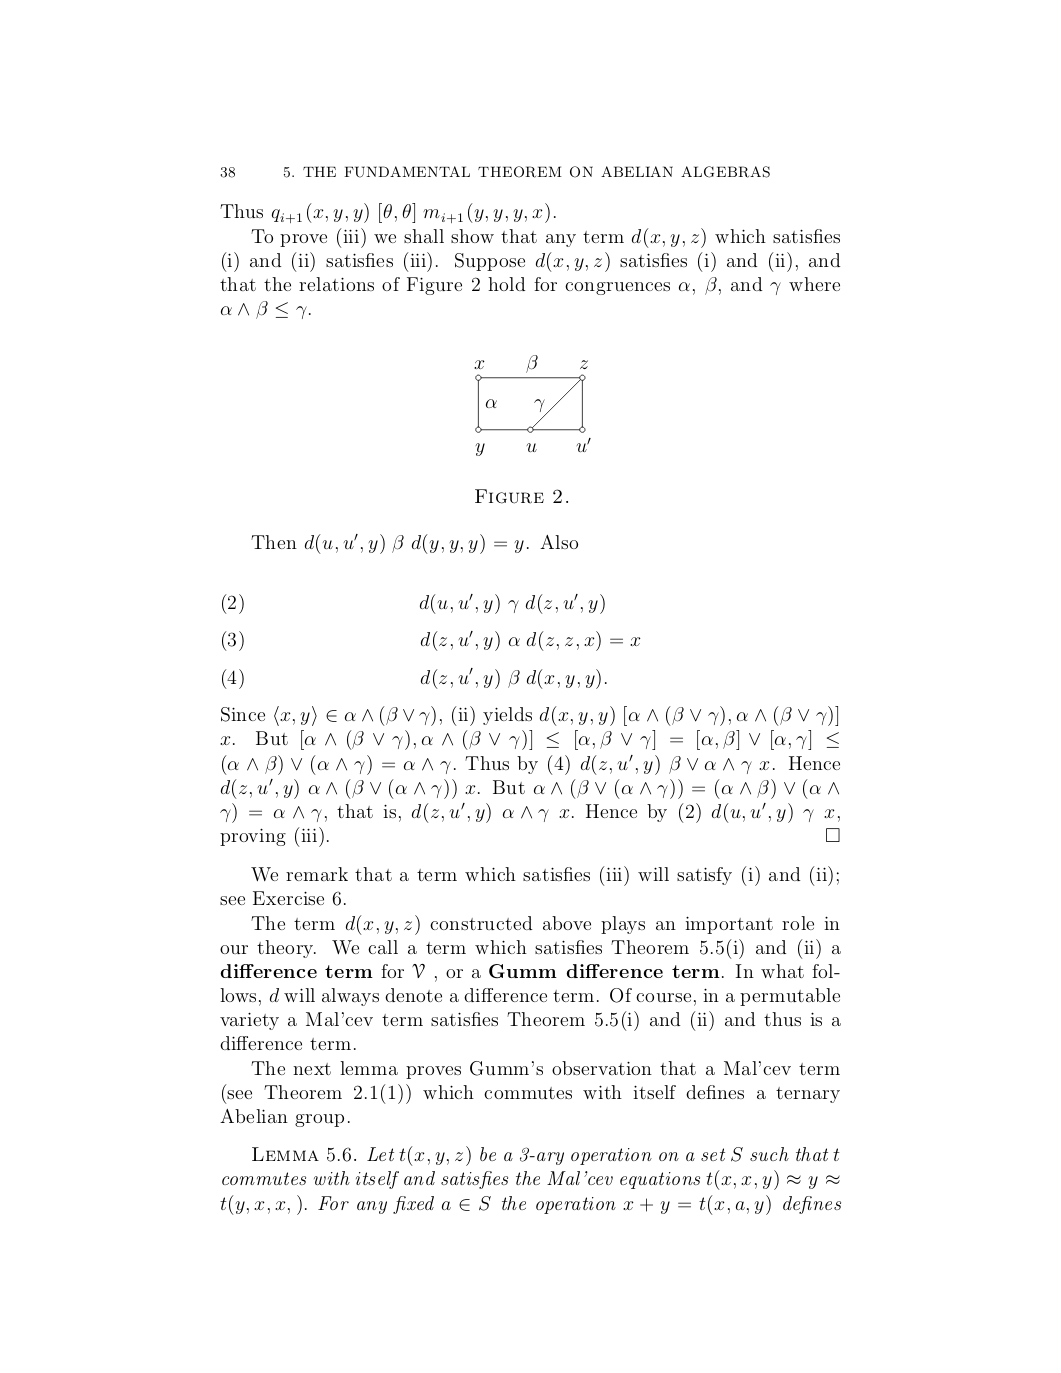figure: (474, 356, 590, 455)
formula: (222, 629, 640, 651), (222, 666, 606, 689), (222, 592, 604, 614), (220, 300, 310, 319)
